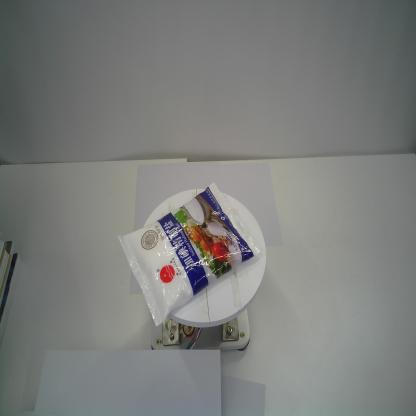Seasoner: (116, 180, 263, 327)
